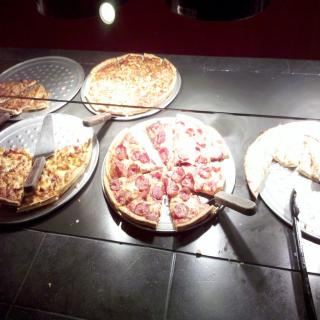Pizza: (105, 131, 234, 237), (0, 138, 92, 214), (84, 52, 178, 117), (243, 126, 320, 198), (0, 78, 48, 113)
